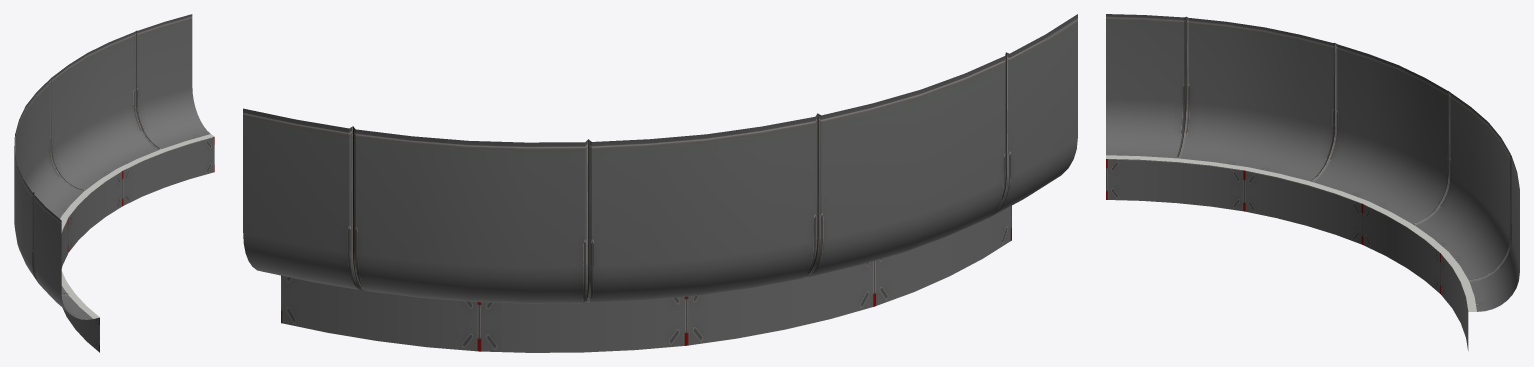
File: TopPlastic_Corner_Round_Outer.glb
3 renders of one model, left to right at view 1: azimuth 30°, elevation 25°; view 2: azimuth 150°, elevation 25°; view 3: azimuth 270°, elevation 25°, orthographic. The views are drawn at different scales.
Parts seen in each view (by area): view 1: TopPlastic_Corner_Round_Outer; view 2: TopPlastic_Corner_Round_Outer; view 3: TopPlastic_Corner_Round_Outer.
Boxes of the visible parts, box(x1,y1,x2,y2) form: TopPlastic_Corner_Round_Outer: box(14, 14, 214, 352); TopPlastic_Corner_Round_Outer: box(243, 14, 1077, 352); TopPlastic_Corner_Round_Outer: box(1106, 14, 1519, 350).
Bounding box in the file's own units: 4.57 × 2.02 × 4.57.
Materials: 3 (3 with a texture image).
